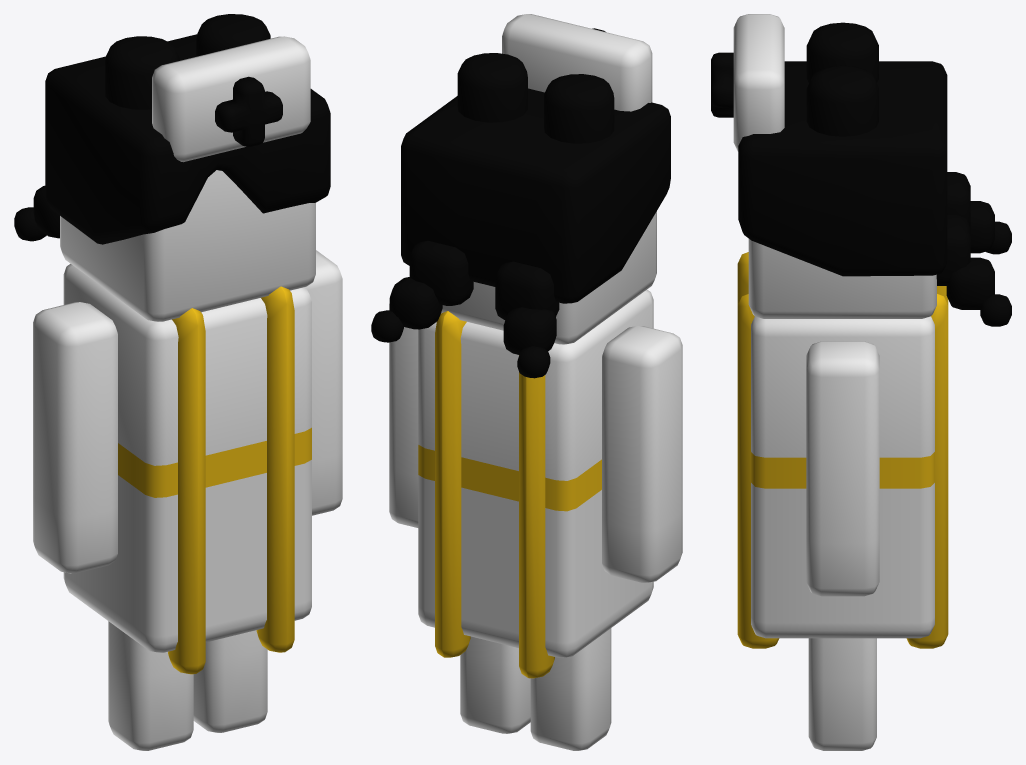
3 views of the same model, side by side, from view 1: azimuth 30°, elevation 25°; view 2: azimuth 150°, elevation 25°; view 3: azimuth 270°, elevation 25° (orthographic). The views are drawn at different scales.
Parts seen in each view (by area): view 1: Cube-Lv3-G; view 2: Cube-Lv3-G; view 3: Cube-Lv3-G.
Part boxes in pixels (x1,y1,x2,y2): Cube-Lv3-G: (14,14,342,750); Cube-Lv3-G: (371,14,682,750); Cube-Lv3-G: (711,14,1011,750).
Size of the model in its own units: 0.6355 by 1.51 by 0.6036.
